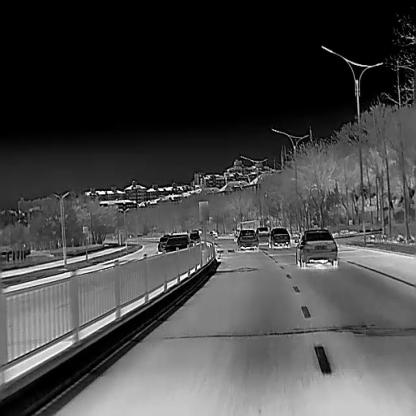car: (294, 229, 338, 266), (236, 228, 259, 251), (266, 226, 290, 247), (163, 233, 189, 250), (255, 226, 270, 244), (189, 232, 200, 247), (157, 236, 167, 250), (209, 230, 217, 239)
